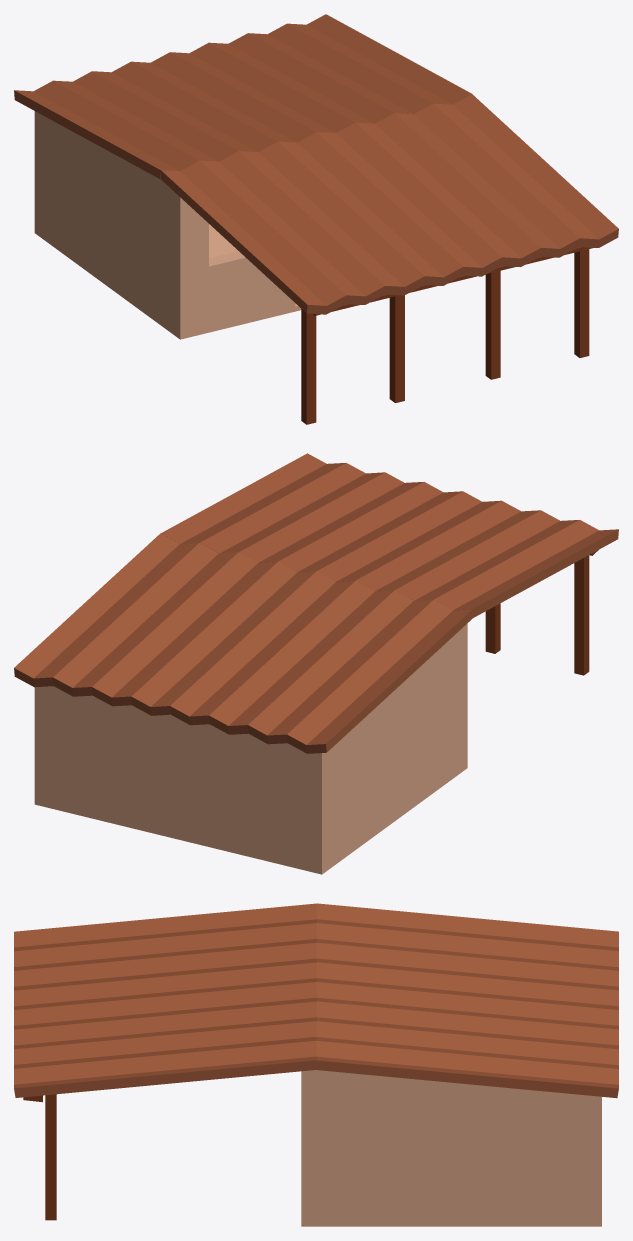
Rendered from Building_V01_V2.fbx.
3 views of the same model, one above another, from view 1: azimuth 30°, elevation 25°; view 2: azimuth 150°, elevation 25°; view 3: azimuth 270°, elevation 25° (orthographic). The views are drawn at different scales.
Visible parts, largest first — view 1: Building_V01; view 2: Building_V01; view 3: Building_V01.
Part boxes in pixels (<box>): Building_V01: <box>14,14,618,424</box>; Building_V01: <box>14,453,618,874</box>; Building_V01: <box>14,903,618,1226</box>.
Size of the model in its own units: 534 by 273 by 869.
